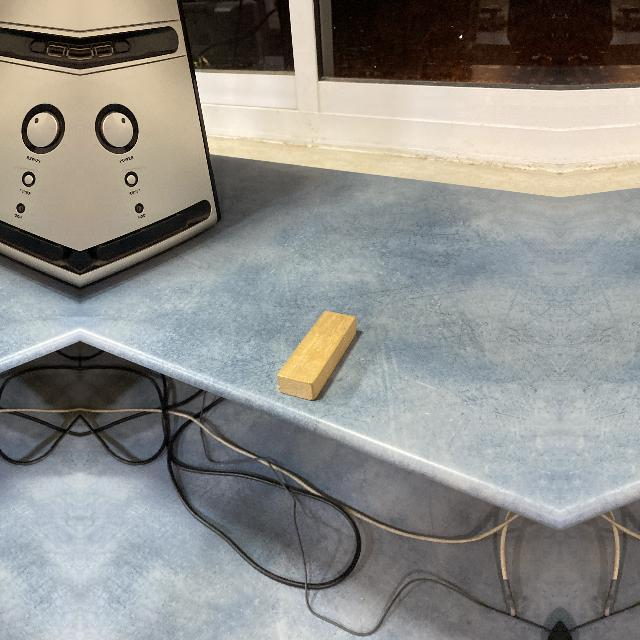jenga: (276, 312, 359, 403)
